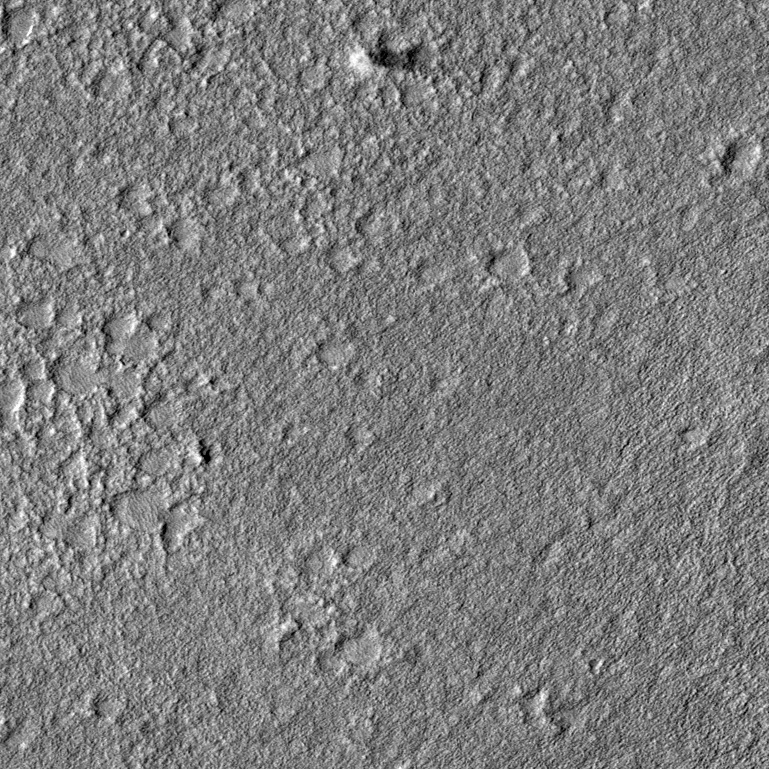dust_devil: (346, 40, 432, 75)
